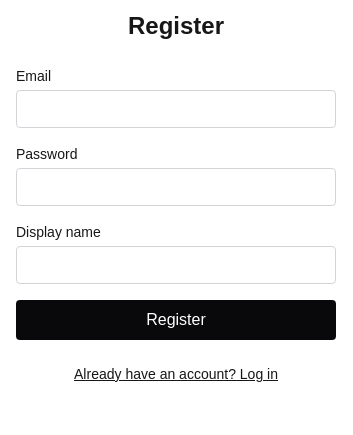
register page › a server validation failure is surfaced and stores no token
The image size is (353, 435).
Type "a@b.test" into the field labelled "Email".
click(176, 109); type("a@b.test")  # box [16, 90, 336, 128]
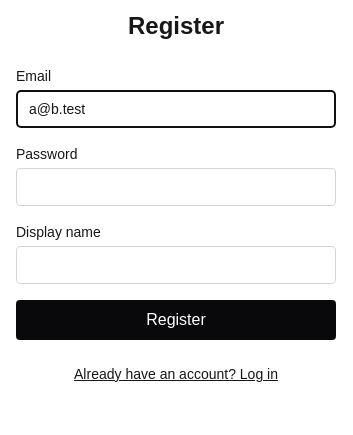
Type "short" into the password field labelled "Password".
click(176, 187); type("short")  # box [16, 168, 336, 206]
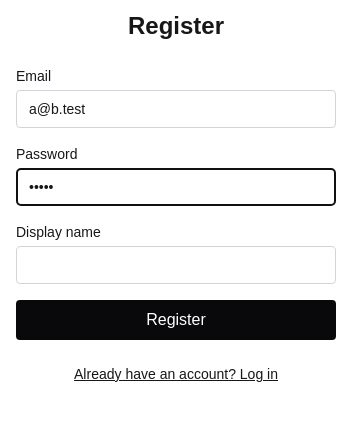
Type "Ann" into the field labelled "Display name".
click(176, 265); type("Ann")  # box [16, 246, 336, 284]
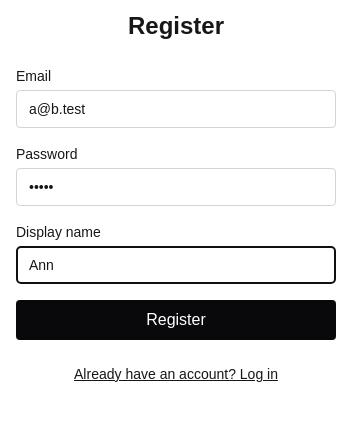
Click the button "Register".
click(176, 320)  # box [16, 300, 336, 340]
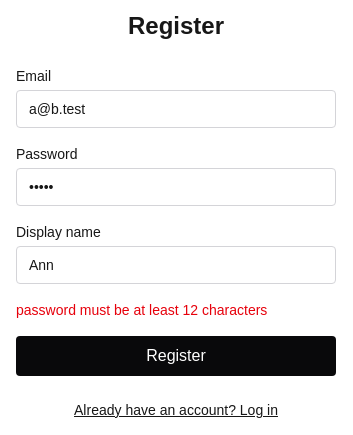
Check: the message shows "at least 12 characters", box [16, 302, 267, 318]
